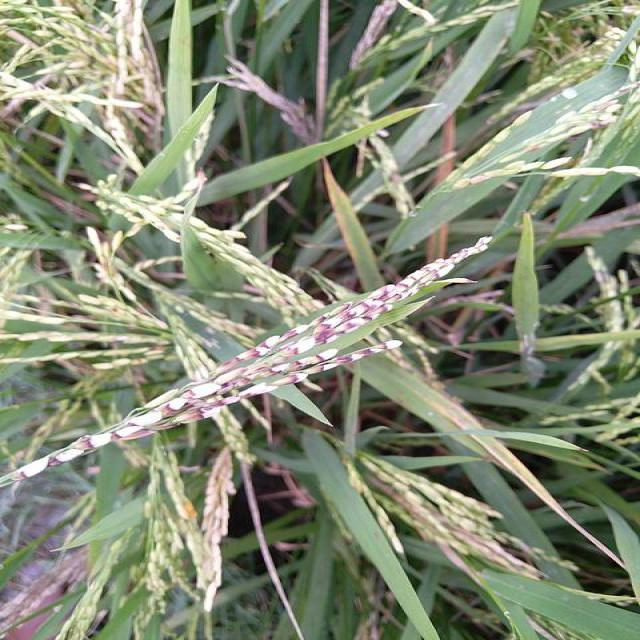Panicle Blight: (0, 238, 492, 488)
